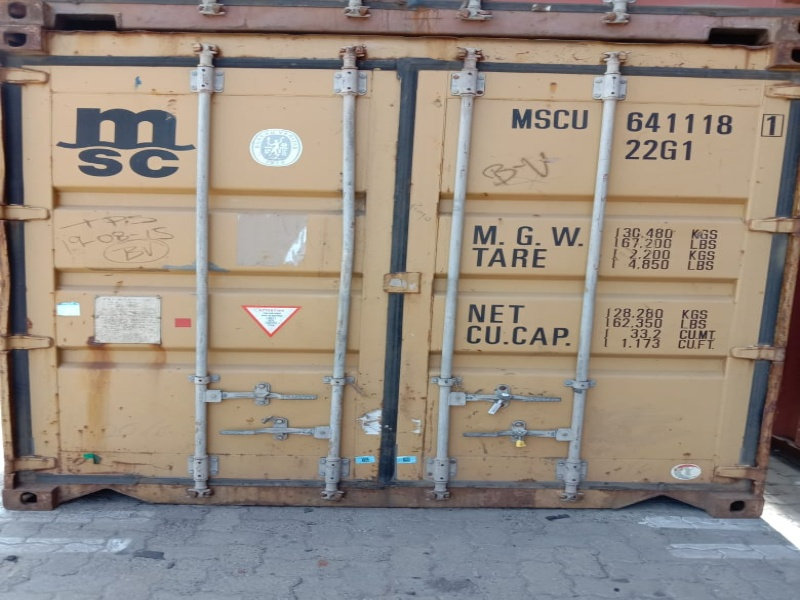iso: (621, 138, 696, 164)
mgw: (470, 222, 724, 250)
serial: (512, 103, 789, 136)
